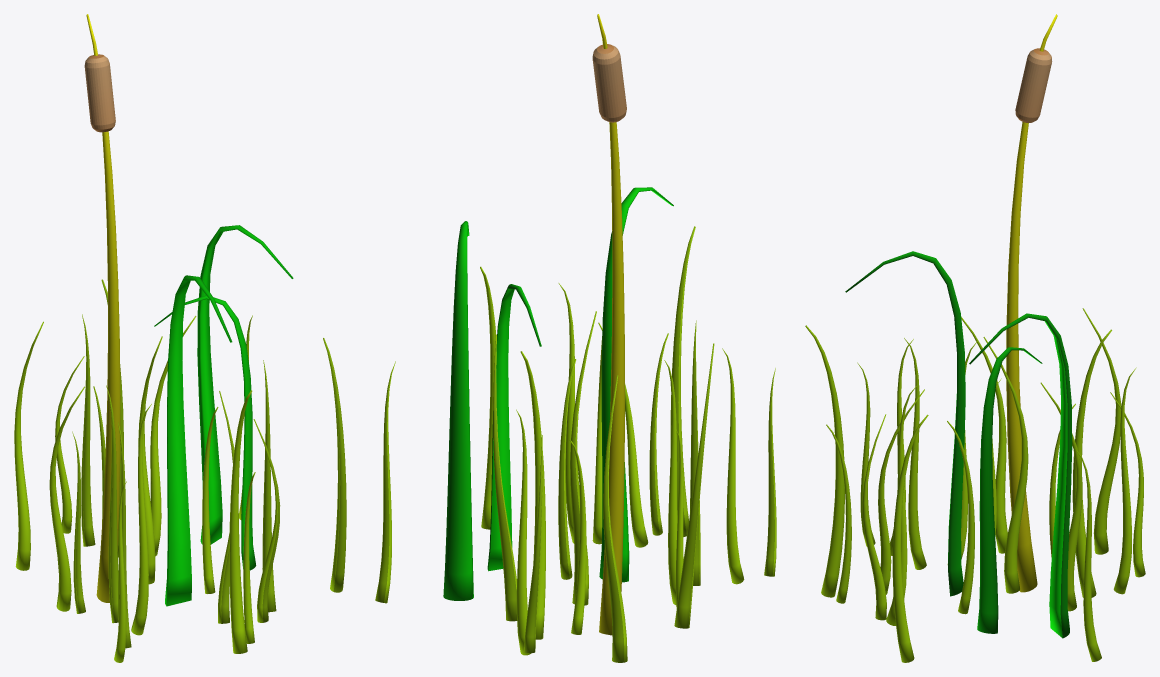
File: TA-sm-junco.fbx
3 views of the same model, side by side, from view 1: azimuth 30°, elevation 25°; view 2: azimuth 150°, elevation 25°; view 3: azimuth 270°, elevation 25° (orthographic). The views are drawn at different scales.
Parts seen in each view (by area): view 1: junco; view 2: junco; view 3: junco.
Part boxes in pixels (bbox=[...]): junco: bbox=[14, 14, 346, 662]; junco: bbox=[375, 14, 776, 662]; junco: bbox=[805, 14, 1145, 662].
Bounding box in the file's own units: 0.3221 × 0.7159 × 0.3845.
1 material, 1 textured.
